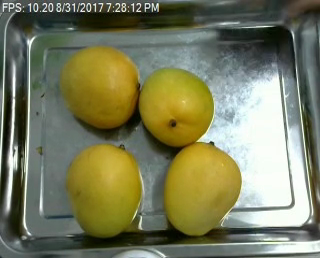Mango: (67, 143, 144, 236), (164, 142, 240, 235), (59, 47, 137, 130), (139, 66, 213, 145)
